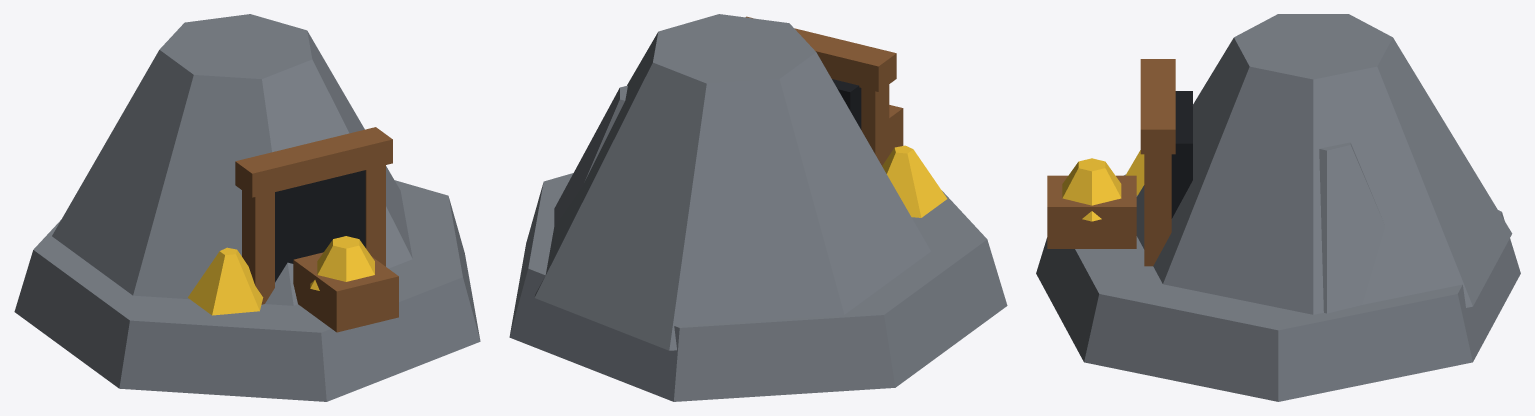
The model's file is gold_mine.glb.
The picture shows the model from 3 angles, left to right: view 1: azimuth 30°, elevation 25°; view 2: azimuth 150°, elevation 25°; view 3: azimuth 270°, elevation 25°; orthographic projection. The views are drawn at different scales.
Parts seen in each view (by area): view 1: gold_mine; view 2: gold_mine; view 3: gold_mine.
Boxes of the visible parts, x1=… form: gold_mine: x1=14, y1=14, x2=480, y2=401; gold_mine: x1=509, y1=14, x2=1007, y2=401; gold_mine: x1=1036, y1=14, x2=1520, y2=401.
Size of the model in its own units: 2.43 by 1.43 by 2.5.
